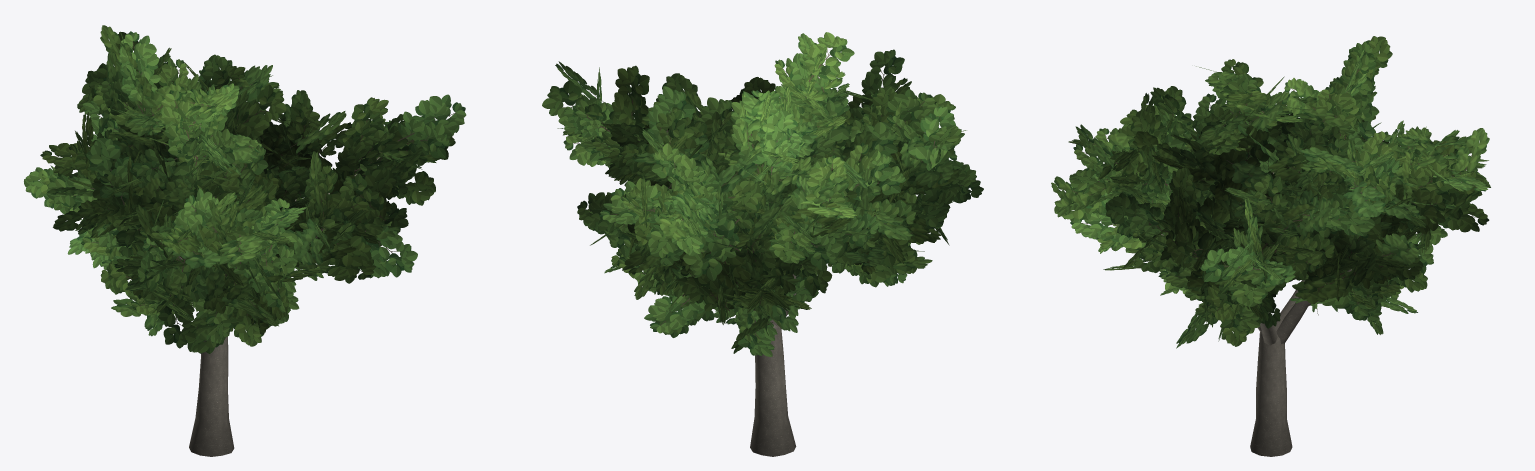
File: native-broadleaf.glb
3 renders of one model, left to right at view 1: azimuth 30°, elevation 25°; view 2: azimuth 150°, elevation 25°; view 3: azimuth 270°, elevation 25°, orthographic. The views are drawn at different scales.
Parts seen in each view (by area): view 1: native-broadleaf; view 2: native-broadleaf; view 3: native-broadleaf.
Boxes of the visible parts, box(x1,y1,x2,y2) form: native-broadleaf: box(24, 25, 466, 456); native-broadleaf: box(542, 32, 983, 456); native-broadleaf: box(1051, 36, 1490, 456).
Bounding box in the file's own units: 10.53 × 10.68 × 11.48.
Materials: 2 (2 with a texture image).
